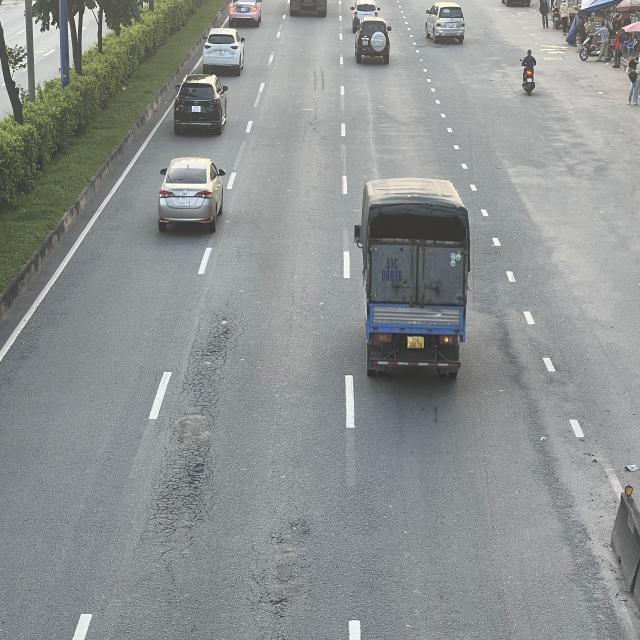car: (158, 160, 228, 234), (175, 76, 230, 138), (200, 28, 246, 76), (351, 15, 392, 63), (424, 1, 465, 42)
truck: (359, 177, 474, 378)
